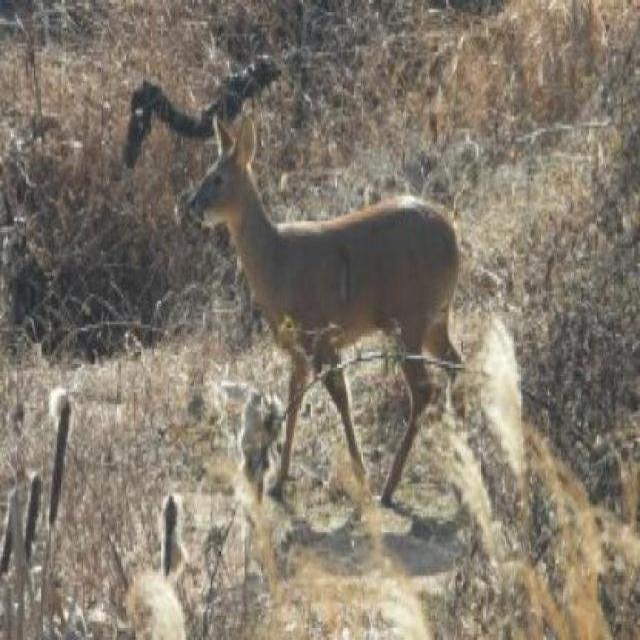deer: (174, 103, 506, 517)
